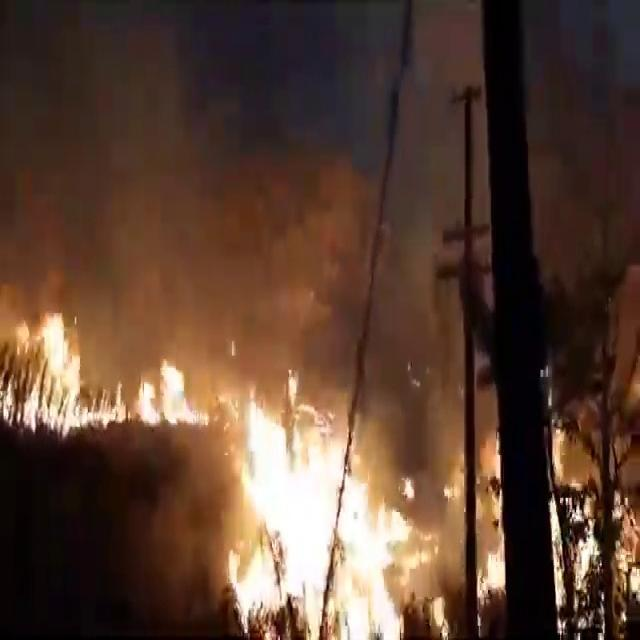Fire: (235, 384, 406, 634), (6, 314, 209, 436), (477, 436, 508, 592)
Smoke: (7, 10, 484, 598), (531, 27, 635, 380)
